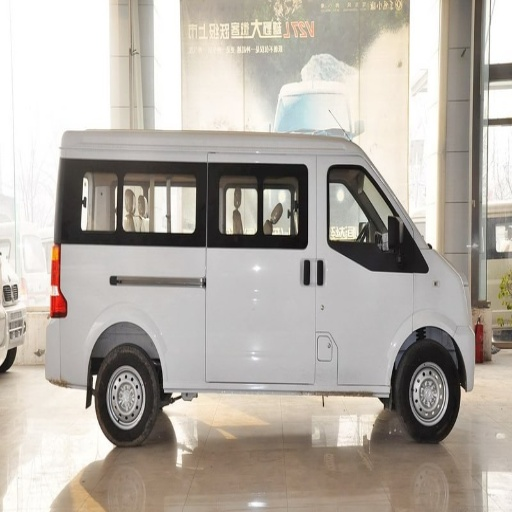trunk: (60, 247, 259, 387)
